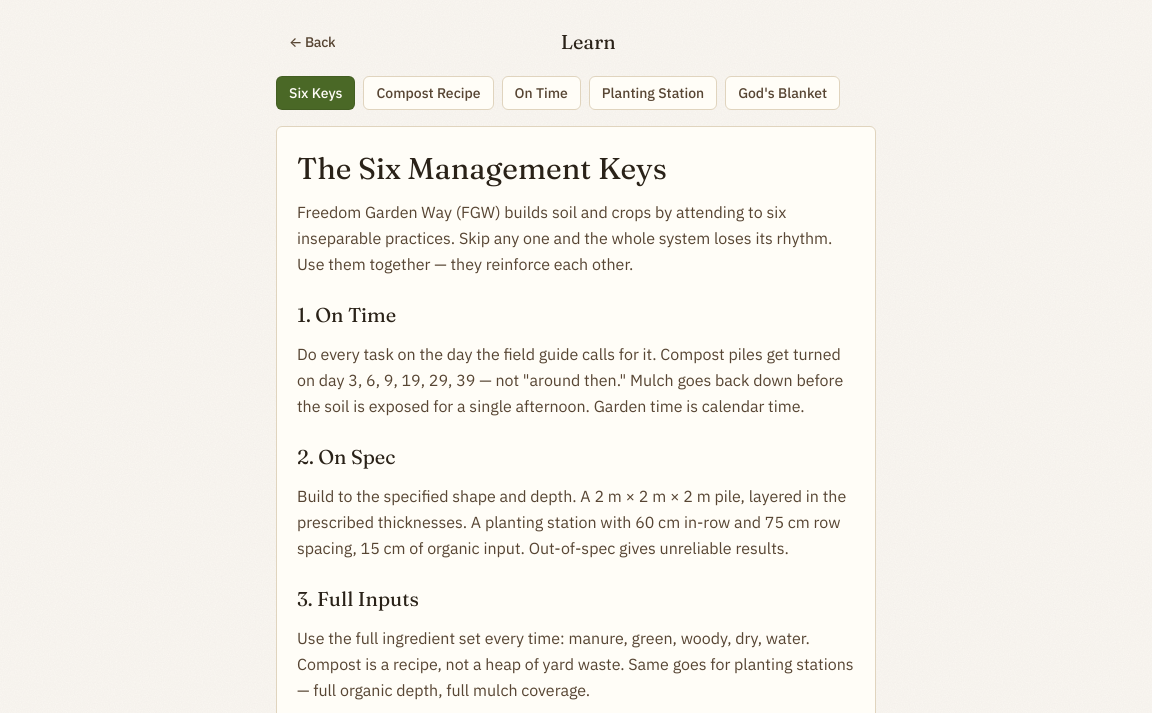
it: SPEC-024 Learn route › switches to On Time tab
The width and height of the screenshot is (1152, 713).
Click the tab "On Time". click: (541, 93)
box: [502,76,581,110]
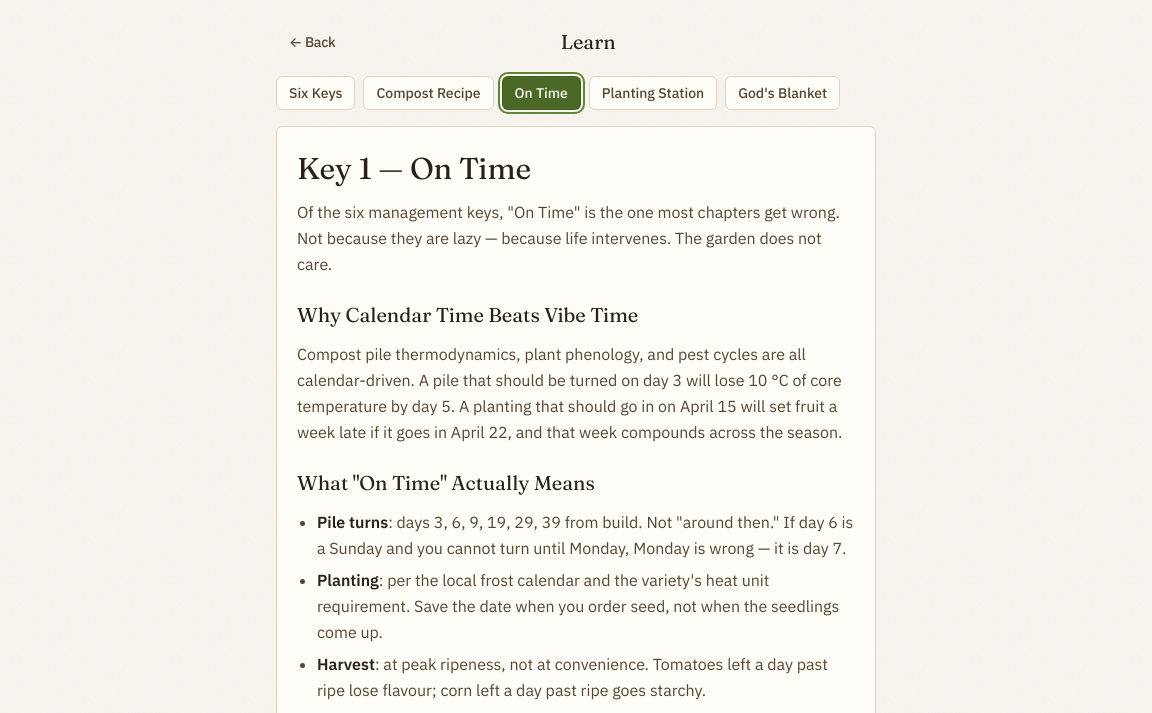
Now the heading "Key 1 — On Time" is shown, box [297,150,531,187]
